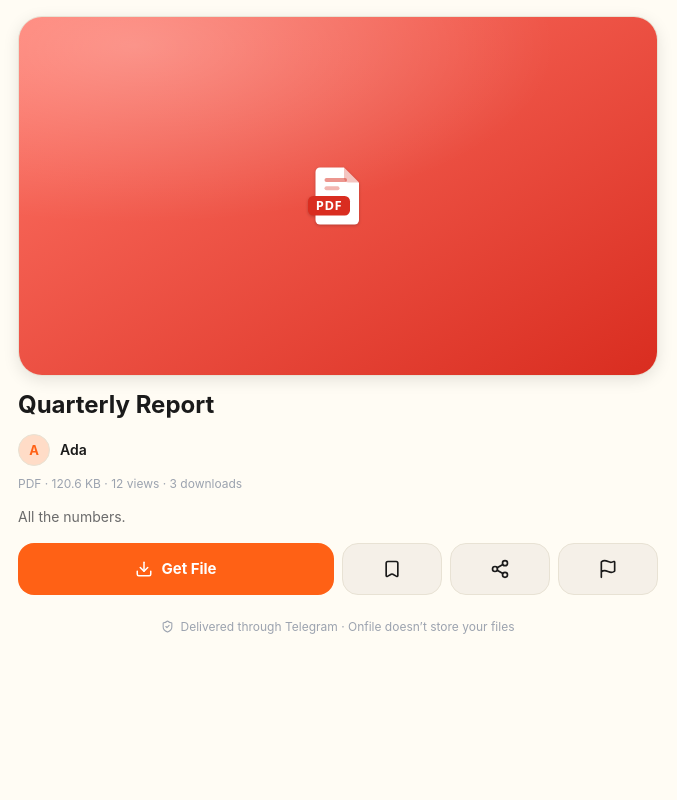
Test case: standalone file mode — advertisement flow (server still decides) › never renders a javascript: link from the server as the Telegram target
Click the button with test id "get-file" at point(176, 569), box [18,543,334,595]
Wait 10000 ms
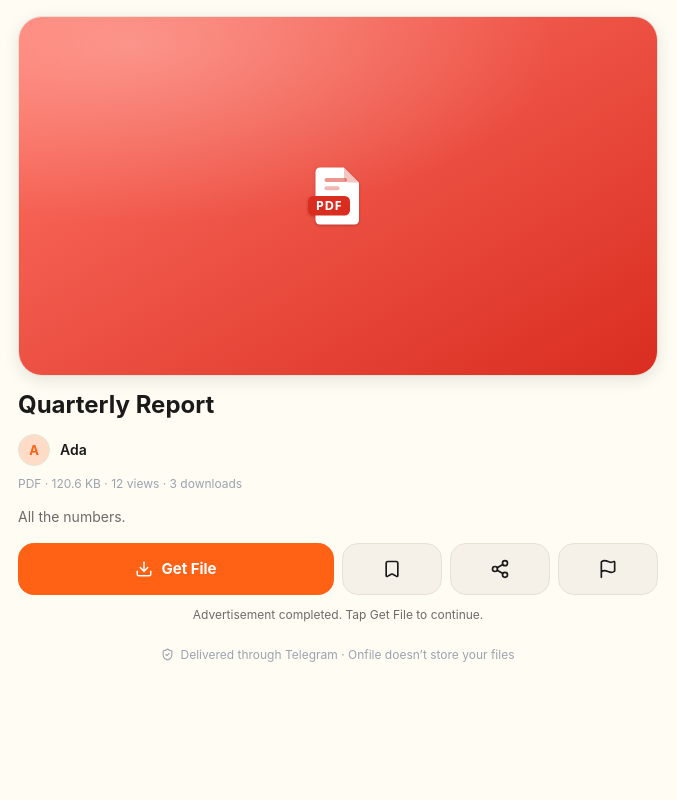
Click the button with test id "get-file" at point(176, 569), box [18,543,334,595]
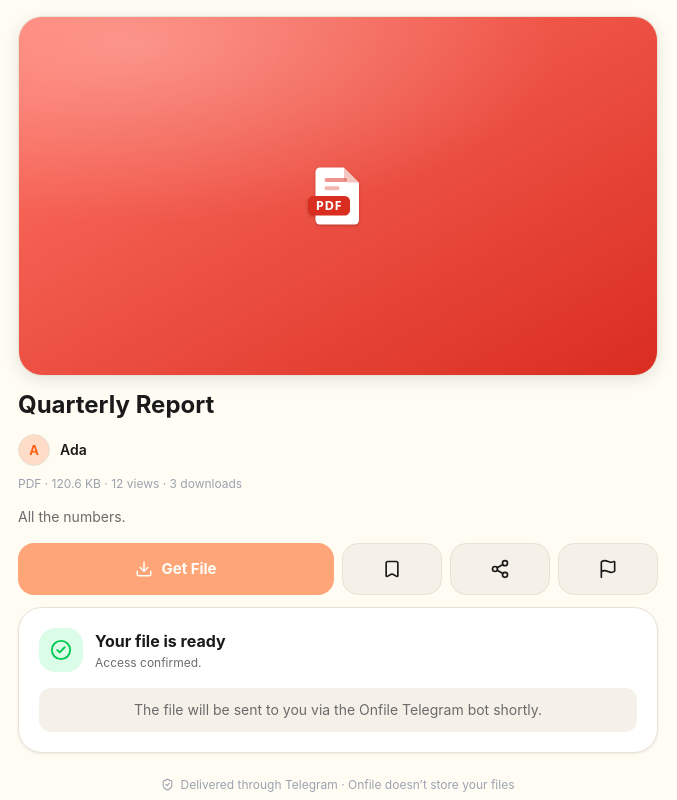
Expected: the text "Your file is ready" is shown, [95,629,226,653]
